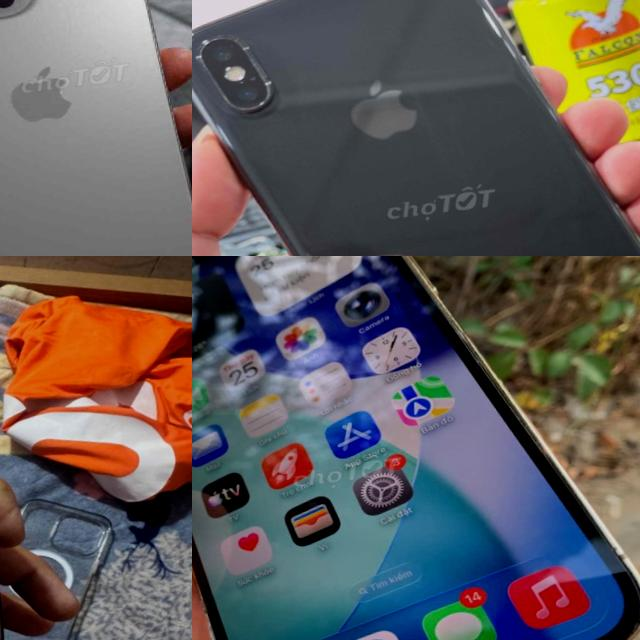gen_12_13: (192, 256, 640, 640)
gen_14: (0, 415, 53, 640)
gen_15: (0, 0, 192, 256)
gen_x_xs: (192, 0, 640, 256)
scratch: (222, 26, 290, 98), (192, 40, 217, 73)
